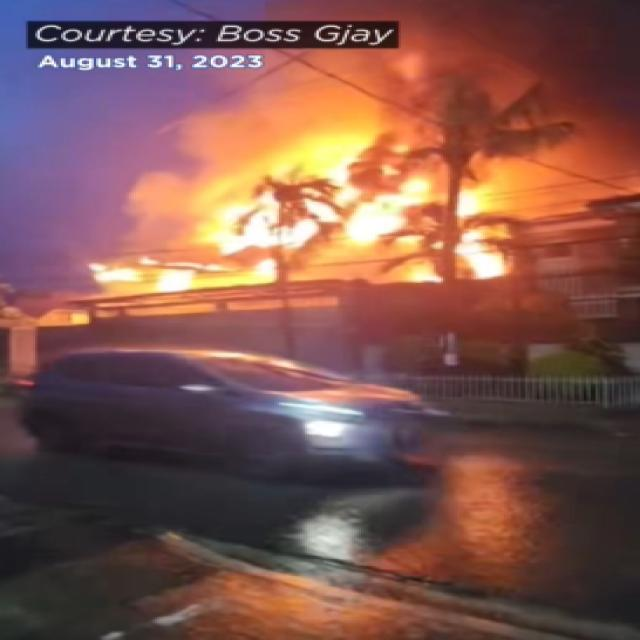Fire: (195, 154, 488, 278), (94, 250, 190, 288)
Smoke: (288, 60, 636, 212), (89, 198, 258, 298)
